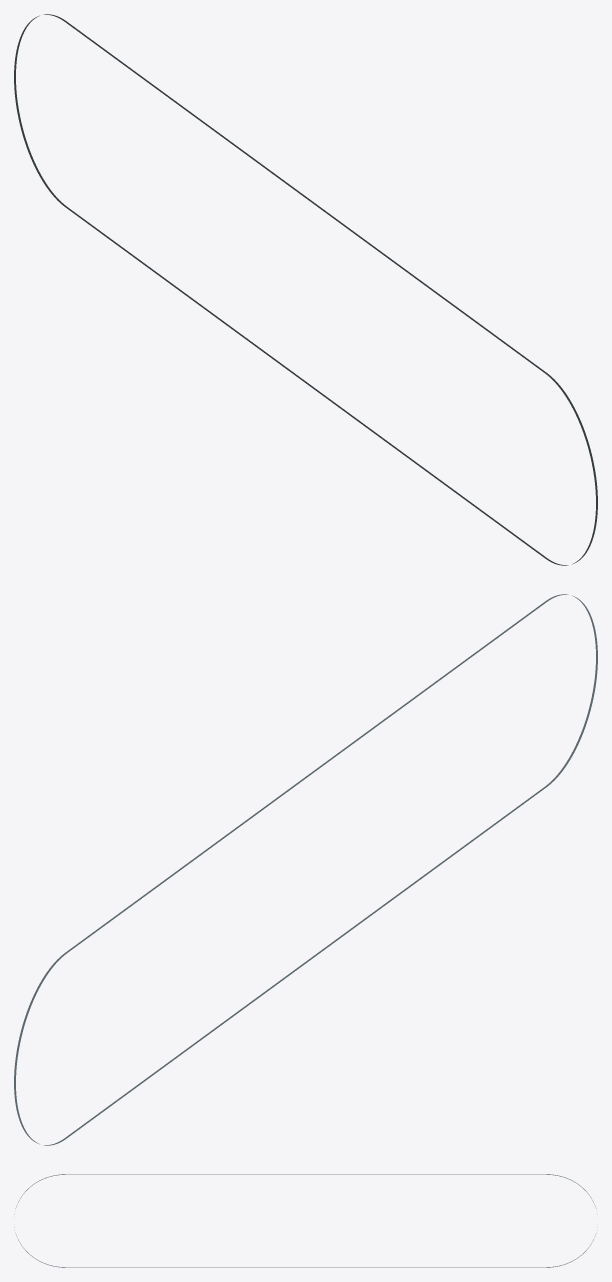
The model's file is p_emissionmesh_destroywarehouse_buildup01.fbx.
3 views of the same model, one above another, from view 1: azimuth 30°, elevation 25°; view 2: azimuth 150°, elevation 25°; view 3: azimuth 270°, elevation 25° (orthographic). The views are drawn at different scales.
Visible parts, largest first — view 1: p_emissionmesh_destroywarehouse_buildup01; view 2: p_emissionmesh_destroywarehouse_buildup01; view 3: p_emissionmesh_destroywarehouse_buildup01.
Boxes of the visible parts, x1,y1,x2,y2 form: p_emissionmesh_destroywarehouse_buildup01: (14, 14, 597, 565); p_emissionmesh_destroywarehouse_buildup01: (14, 594, 597, 1145); p_emissionmesh_destroywarehouse_buildup01: (14, 1174, 597, 1267).
Size of the model in its own units: 0.8934 by 80.49 by 459.
